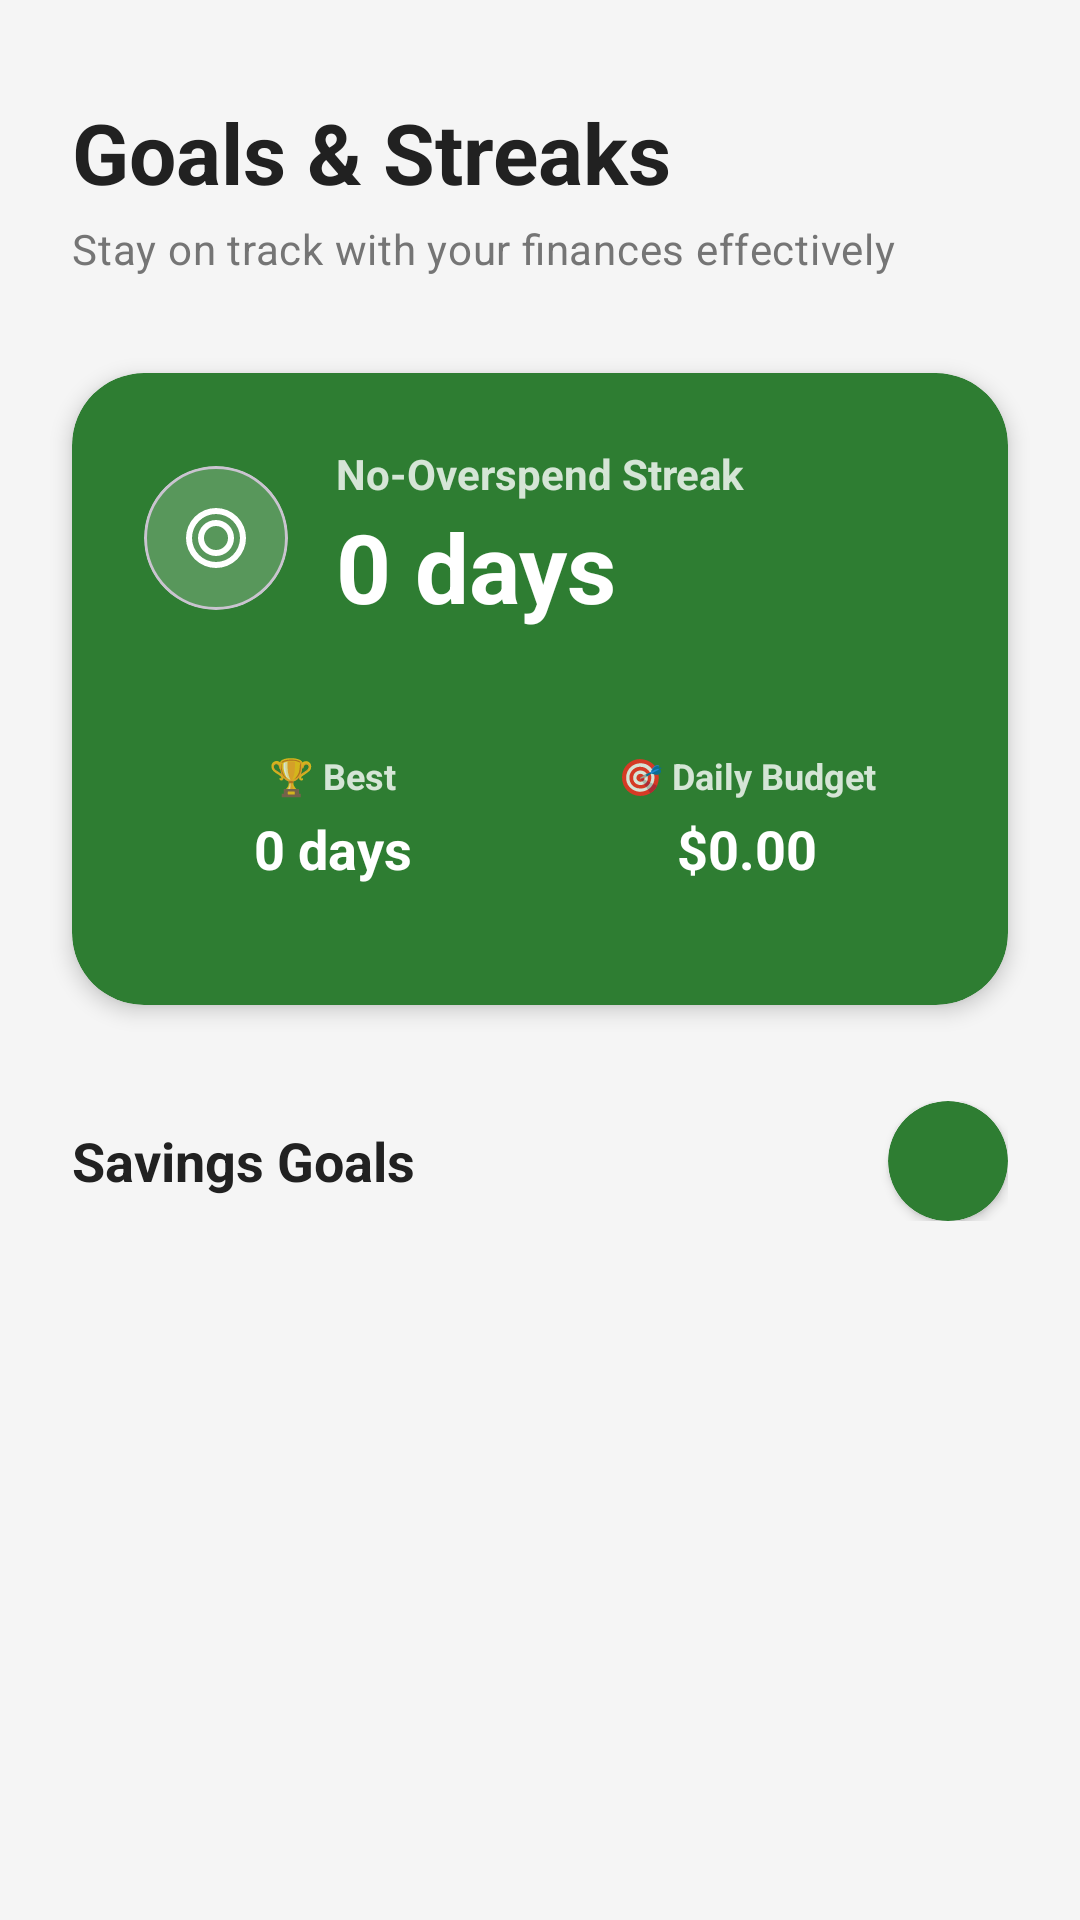

Icon click points for this 1080×1920 phone screenshot, format (x=x, y=y):
goals: (x=216, y=538)
